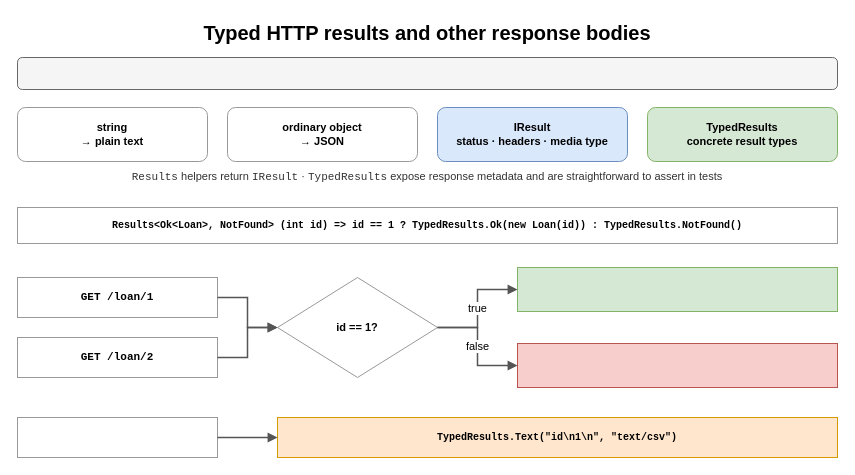
The diagram is 855 pixels wide and 475 high, and some of its shapes have lost their labels. The centre of each missing label's shape, as x and y in pixels:
GET /loans.csv: the point at 117,437
NotFound: the point at 677,365
Ok<Loan> · JSON Loan { Id = 1 }: the point at 677,289
What the handler returns decides the response body: the point at 427,73
